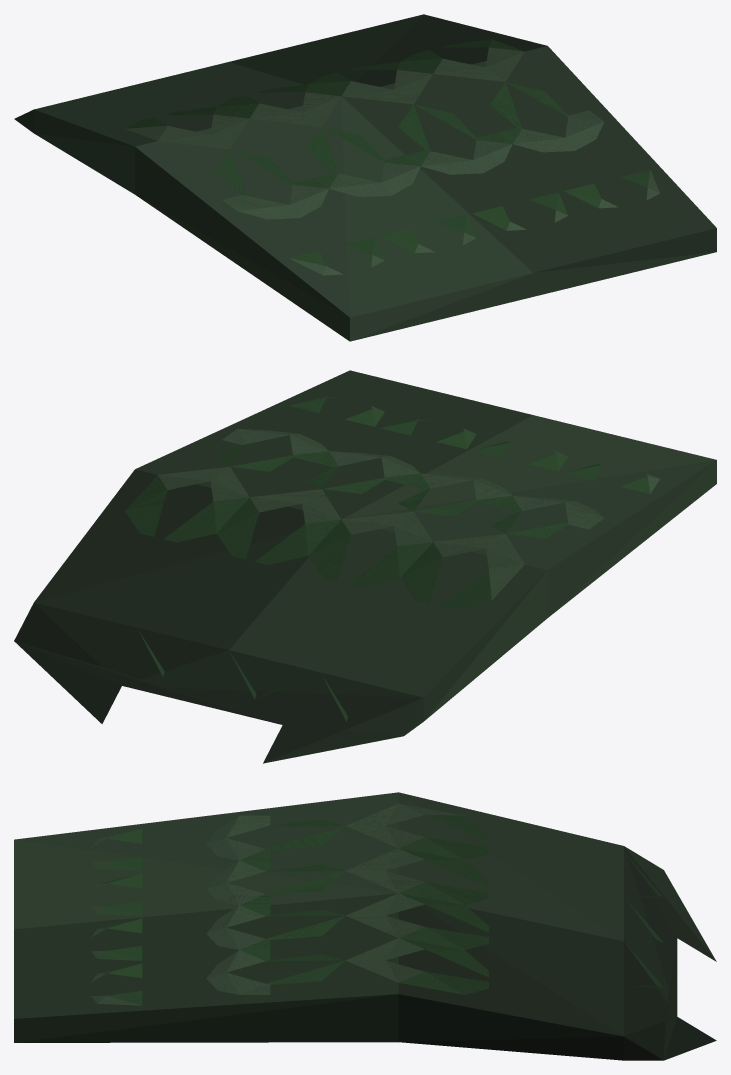
The model's file is adamant-chainbody.obj.
The picture shows the model from 3 angles, top to bottom: view 1: azimuth 30°, elevation 25°; view 2: azimuth 150°, elevation 25°; view 3: azimuth 270°, elevation 25°; orthographic projection.
Visible parts, largest first — view 1: Item Adamant chainbody 2026-09-24_18-15-39; view 2: Item Adamant chainbody 2026-09-24_18-15-39; view 3: Item Adamant chainbody 2026-09-24_18-15-39.
Part boxes in pixels (x1,y1,x2,y2): Item Adamant chainbody 2026-09-24_18-15-39: (14, 14, 716, 341); Item Adamant chainbody 2026-09-24_18-15-39: (14, 370, 716, 763); Item Adamant chainbody 2026-09-24_18-15-39: (14, 792, 716, 1060).
Size of the model in its own units: 36 by 9 by 53.
